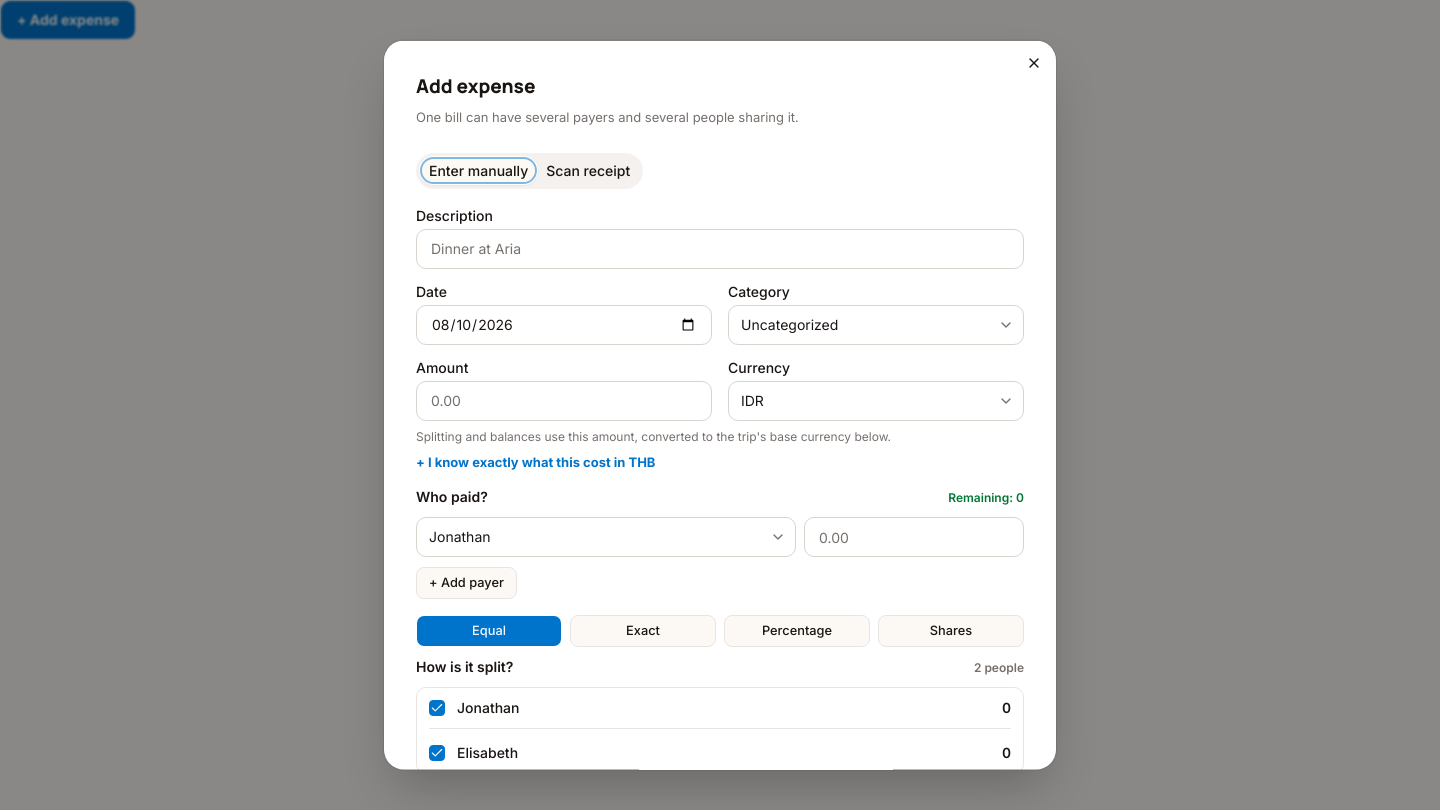
Test: ExpenseDialog › defaults every participant's shares to 0 so only the people actually splitting need a value
Type "Group taxi" into the field labelled "Description" at (720,248), box [416,228,1024,268]
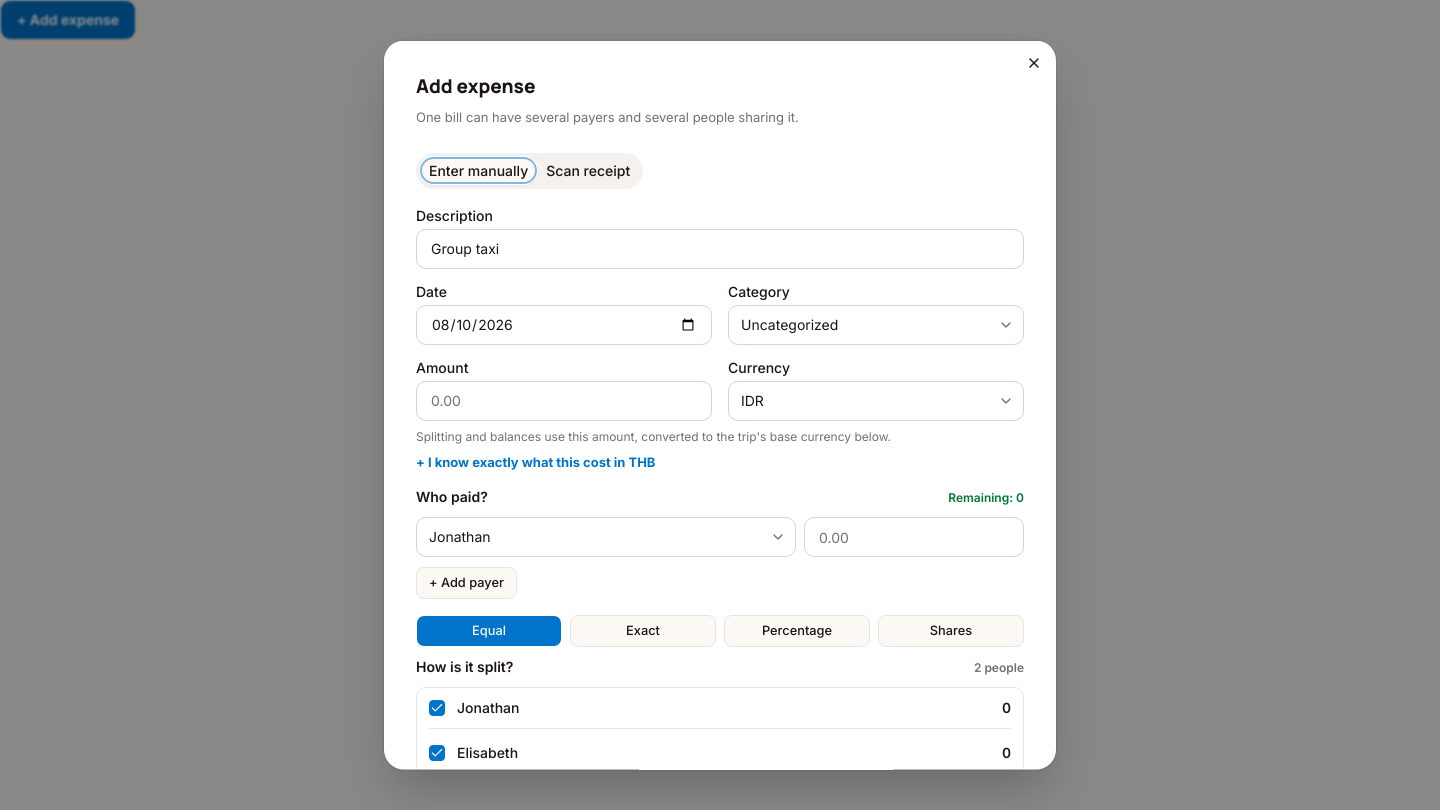
Select "THB" in the dropdown labelled "Currency" at (876,400), box [728,380,1024,420]
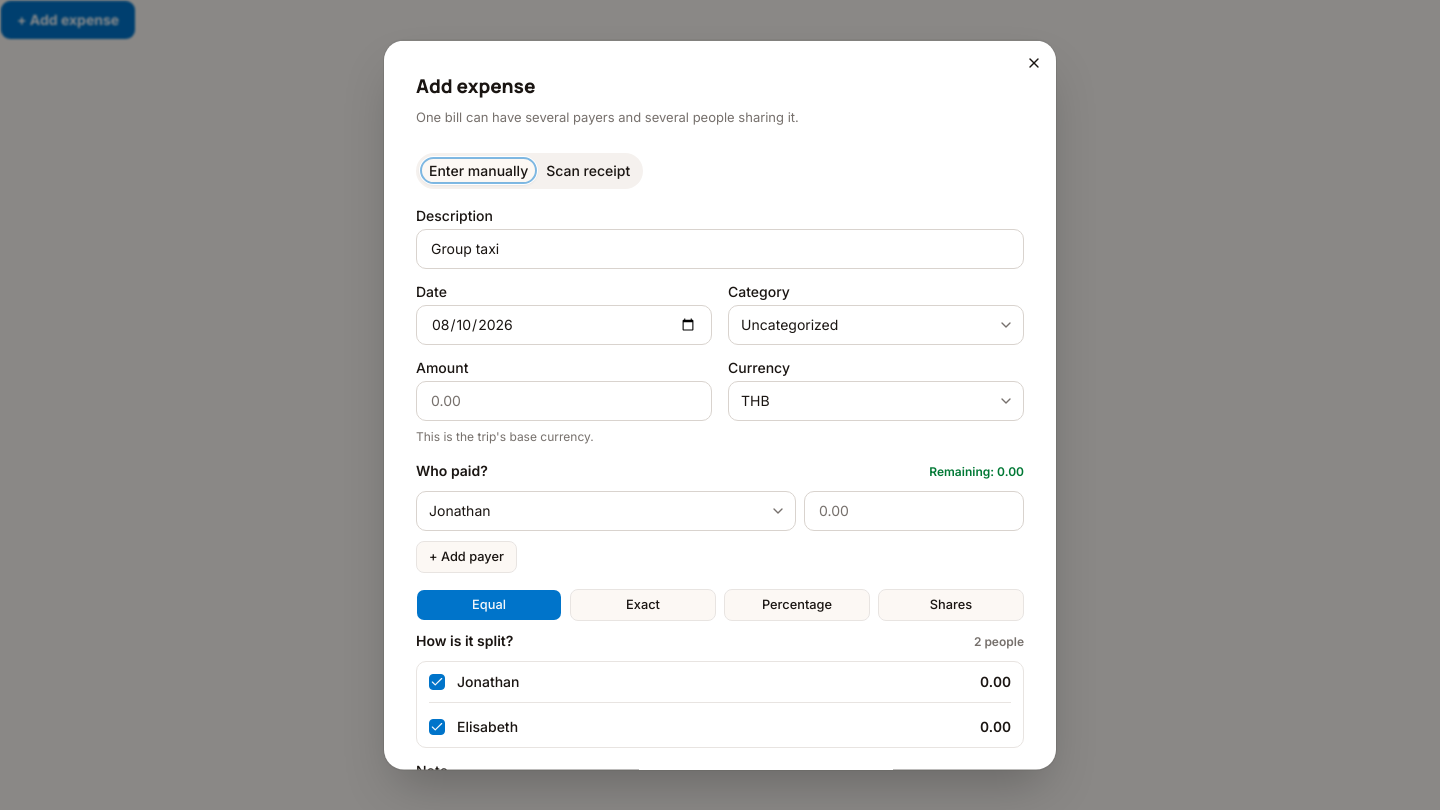
Type "1500" into the field labelled "Amount" at (564,400), box [416,380,712,420]
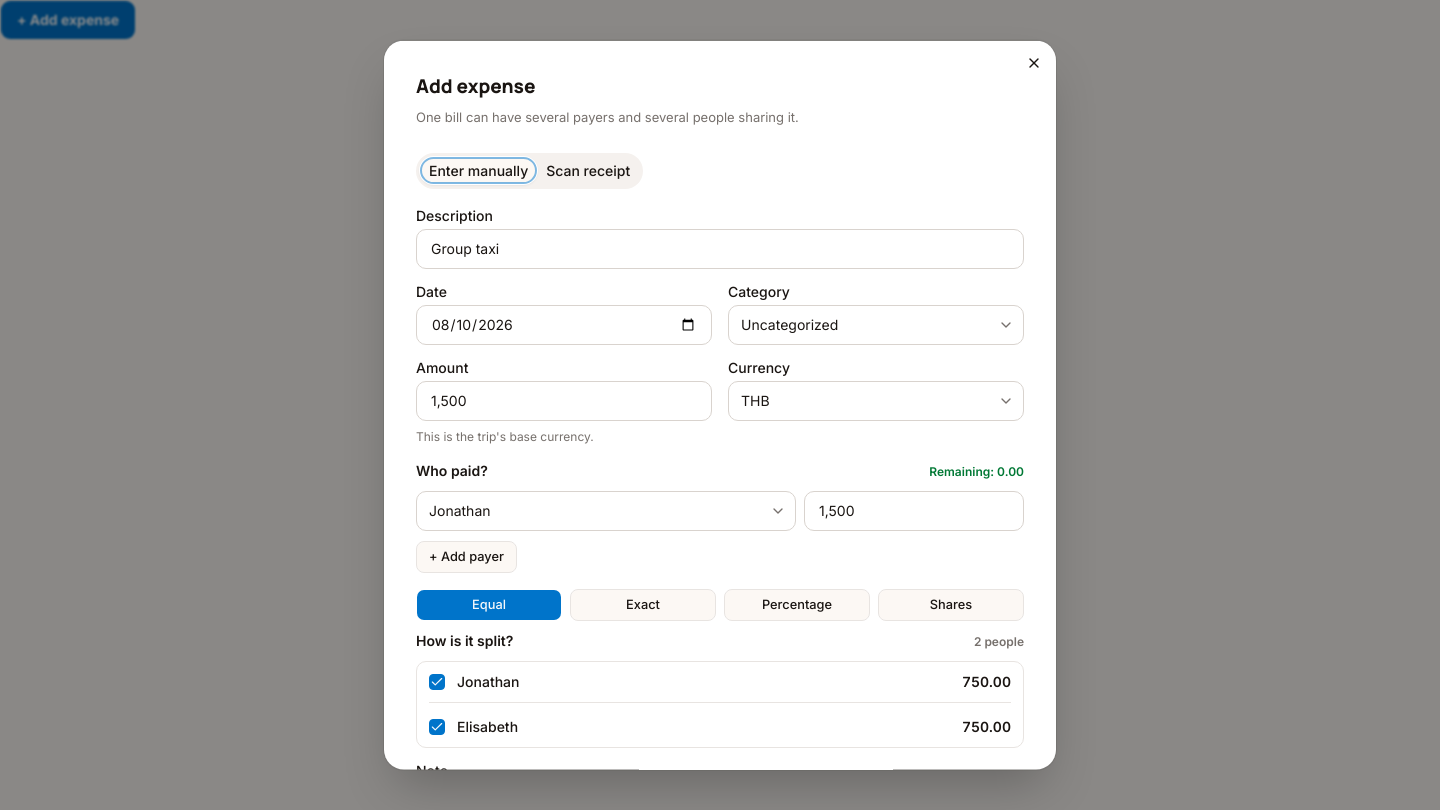
Click the button "Shares" at (951,604), box [878,588,1024,620]
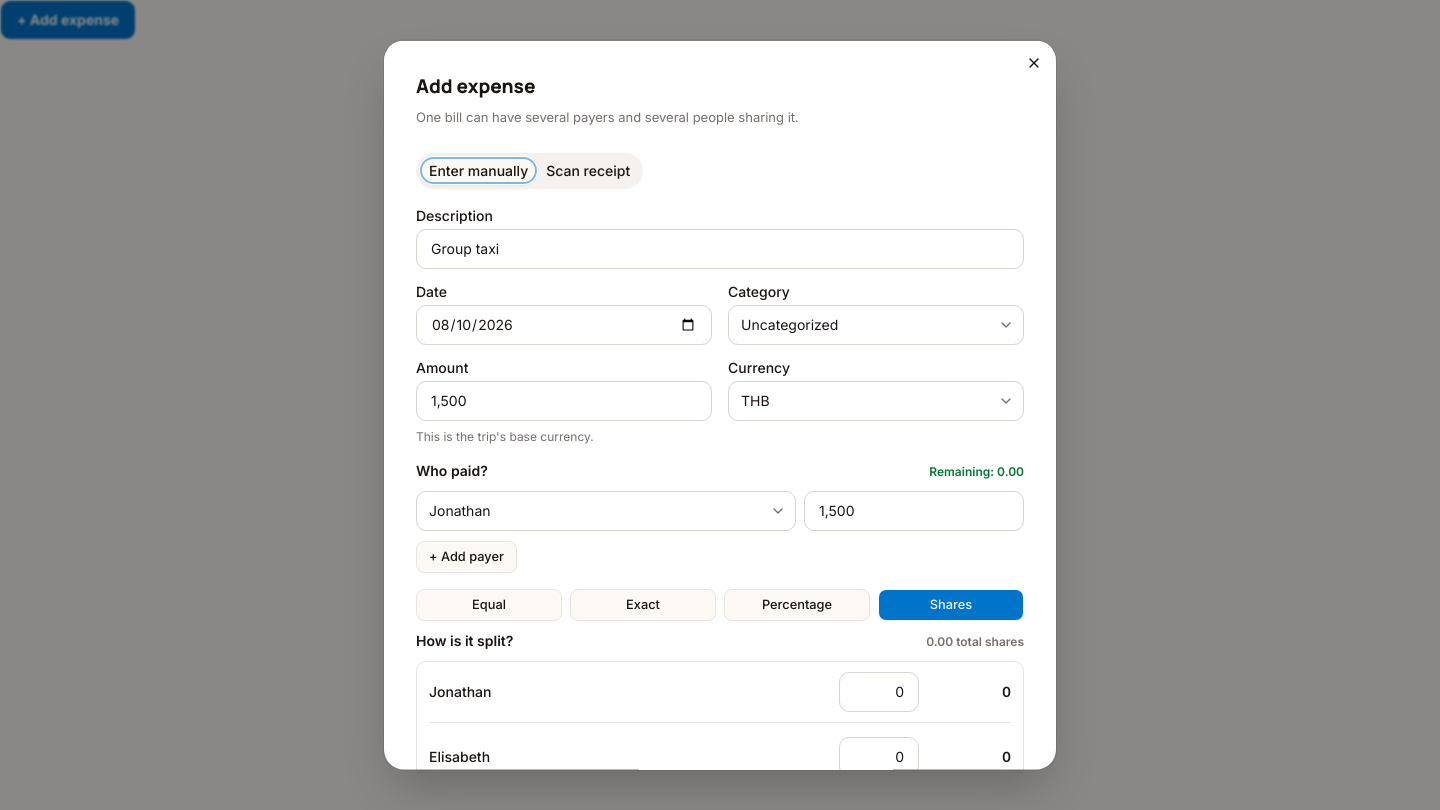
Now the field named "shares for jonathan" holds "0"
Now the field named "shares for elisabeth" holds "0", box [839,736,919,770]
Now the text "0.00 total shares" is shown, box [926,633,1024,649]
Type "1" into the field named "shares for jonathan" at (879,691), box [839,671,919,711]
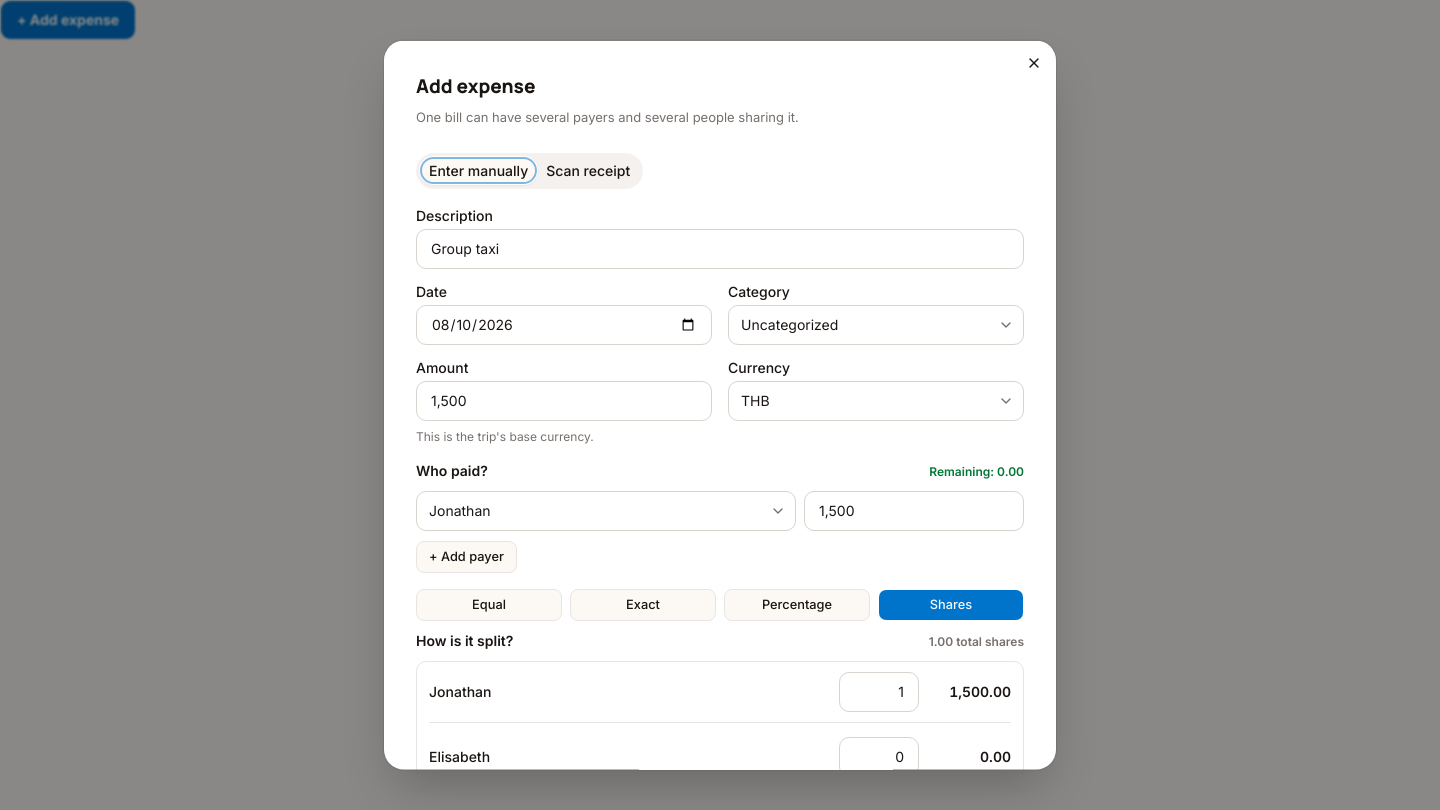
Now the field named "shares for elisabeth" holds "0", box [839,736,919,770]
Now the text "1.00 total shares" is shown, box [929,633,1024,649]
